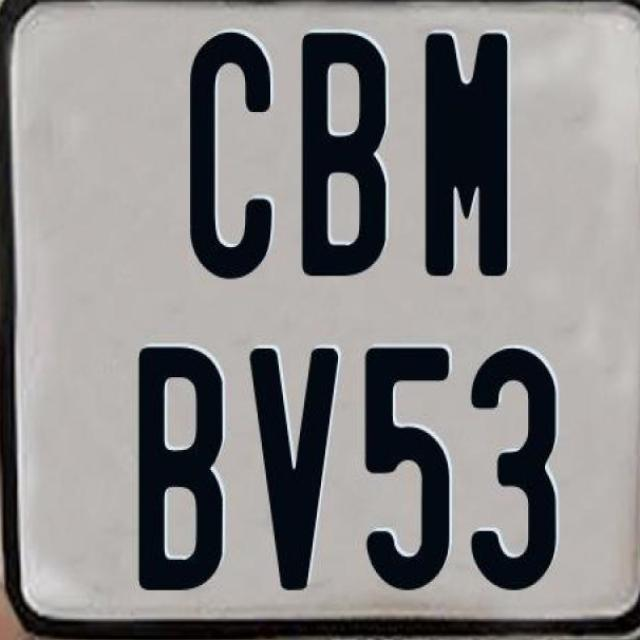license-plate: (30, 6, 640, 639)
